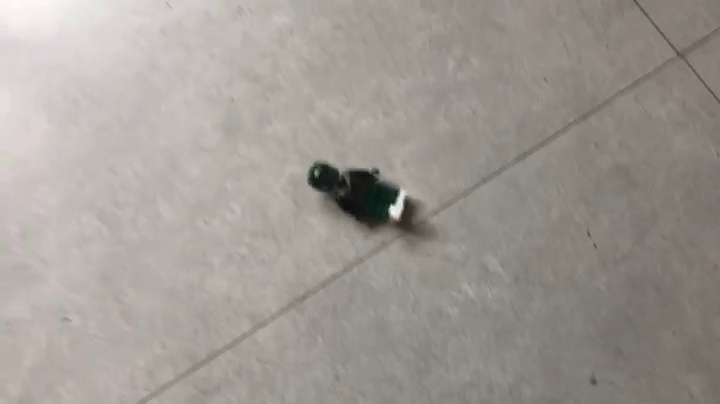people: (306, 161, 419, 230)
